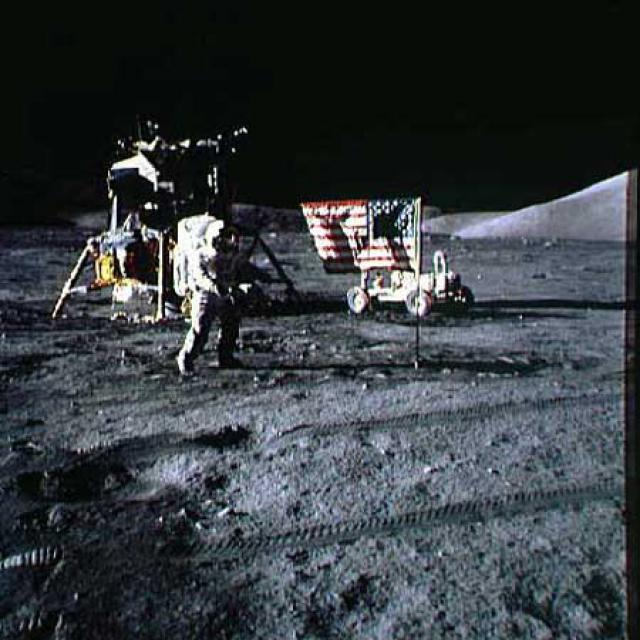artifact: (47, 123, 300, 320), (295, 194, 475, 370)
crater: (5, 458, 207, 502)
rock: (45, 504, 75, 531)
